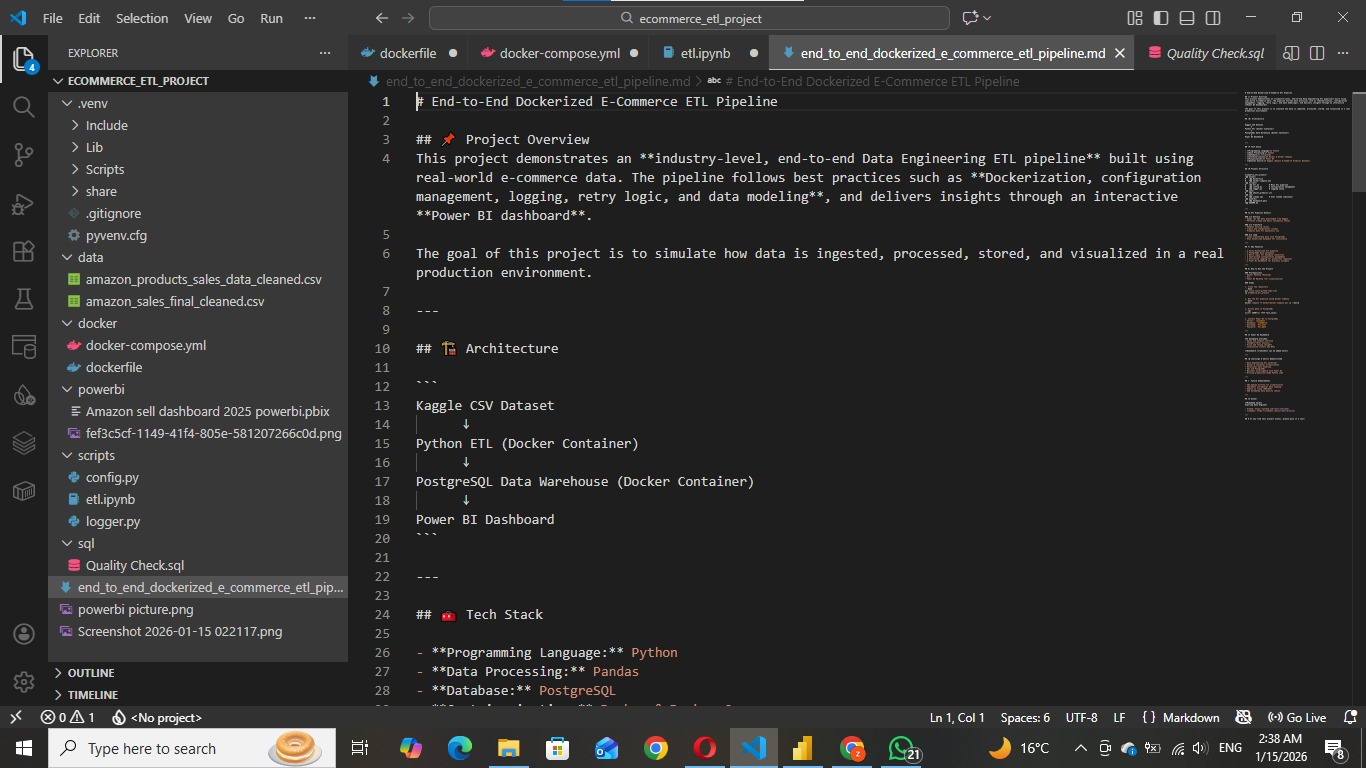

This screenshot's page, from the dashboard's own definition file:
{"tool":"powerbi","page":{"name":"Amazon_sell_Dashborad_2025","canvas":[1800,1200],"ordinal":0},"visuals":[{"type":"clusteredColumnChart","fields":{"Category":["public fact_sales.product_category"],"Y":["Sum(public fact_sales.original_price)"]},"box":[652.5,432.5,555,587.5],"z":0},{"type":"pieChart","fields":{"Category":["public fact_sales.product_title"],"Y":["Sum(public fact_sales.product_rating)"],"Series":["public fact_sales.total_reviews"]},"box":[142.5,432.5,477.5,570],"z":1000},{"type":"kpi","fields":{"Indicator":["Sum(public fact_sales.original_price)"],"TrendLine":["public fact_sales.original_price"]},"box":[142.5,267.5,477.5,135],"z":2000},{"type":"kpi","fields":{"Indicator":["Sum(public fact_sales.purchased_last_month)"],"TrendLine":["public fact_sales.purchased_last_month"]},"box":[690,267.5,477.5,150],"z":3000},{"type":"listSlicer","fields":{"Values":["public fact_sales.product_title"]},"box":[1232.5,272.5,435,747.5],"z":4000},{"type":"textbox","box":[142.5,115,607.5,65],"z":4001}]}

Visuals, with their boxes on the page's 1800x1200 design canvas (x1, y1, x2, y2). These are canvas units, not pixel positions in the 1366x768 screenshot, which may show the page scaled, cropped or inside an application window:
clusteredColumnChart - public fact_sales.product_category x Sum(public fact_sales.original_price): left=652, top=432, right=1208, bottom=1020
pieChart - public fact_sales.product_title x Sum(public fact_sales.product_rating): left=142, top=432, right=620, bottom=1002
kpi - Sum(public fact_sales.original_price) x public fact_sales.original_price: left=142, top=268, right=620, bottom=402
kpi - Sum(public fact_sales.purchased_last_month) x public fact_sales.purchased_last_month: left=690, top=268, right=1168, bottom=418
listSlicer - public fact_sales.product_title: left=1232, top=272, right=1668, bottom=1020
textbox: left=142, top=115, right=750, bottom=180
